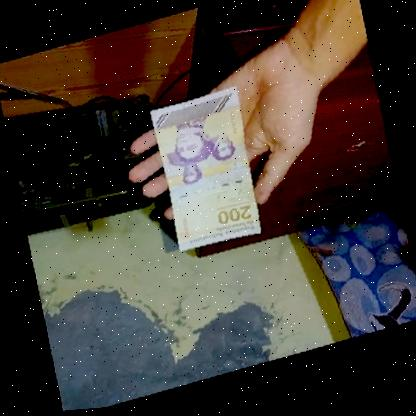vef_front: (148, 85, 262, 259)
